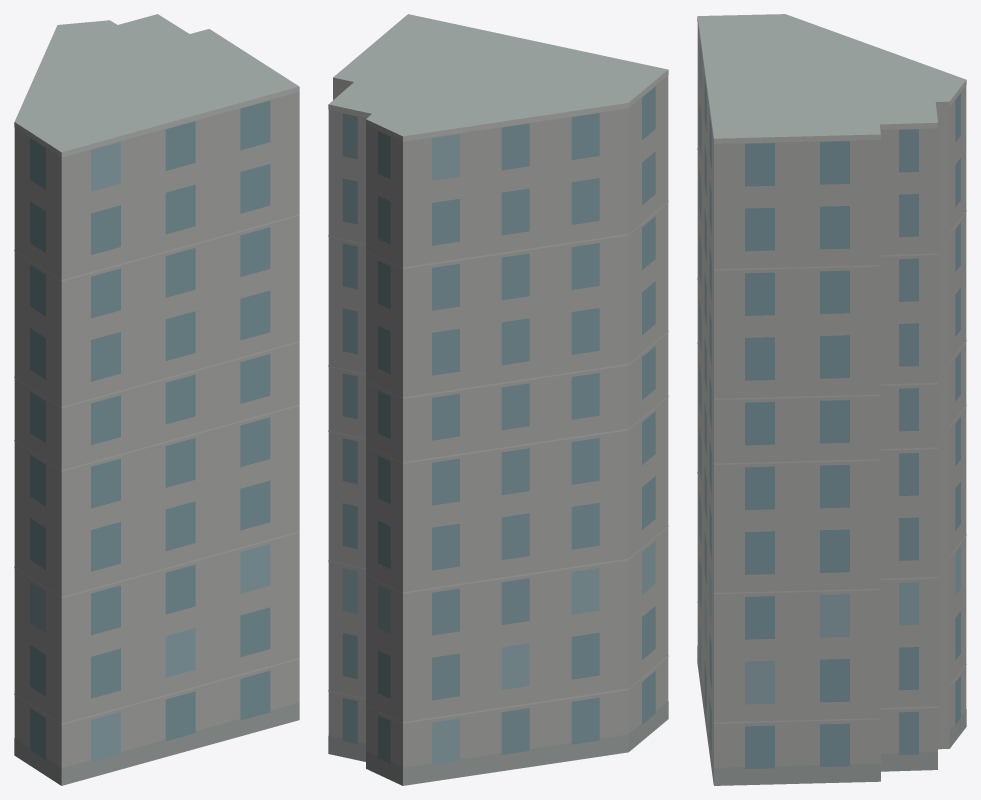
Rendered from survey-upis-33015993.glb.
The picture shows the model from 3 angles, left to right: view 1: azimuth 30°, elevation 25°; view 2: azimuth 150°, elevation 25°; view 3: azimuth 270°, elevation 25°; orthographic projection. The views are drawn at different scales.
Parts seen in each view (by area): view 1: survey-upis-33015993.tmp; view 2: survey-upis-33015993.tmp; view 3: survey-upis-33015993.tmp.
Boxes of the visible parts, bbox=[...] form: survey-upis-33015993.tmp: bbox=[14, 14, 299, 785]; survey-upis-33015993.tmp: bbox=[328, 14, 668, 785]; survey-upis-33015993.tmp: bbox=[697, 14, 966, 785].
Size of the model in its own units: 12.13 by 29.3 by 11.06.
